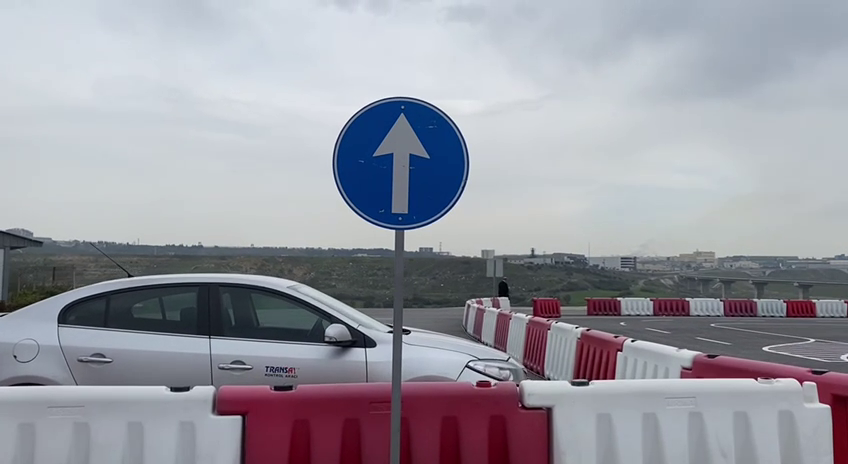forward: (331, 94, 471, 231)
